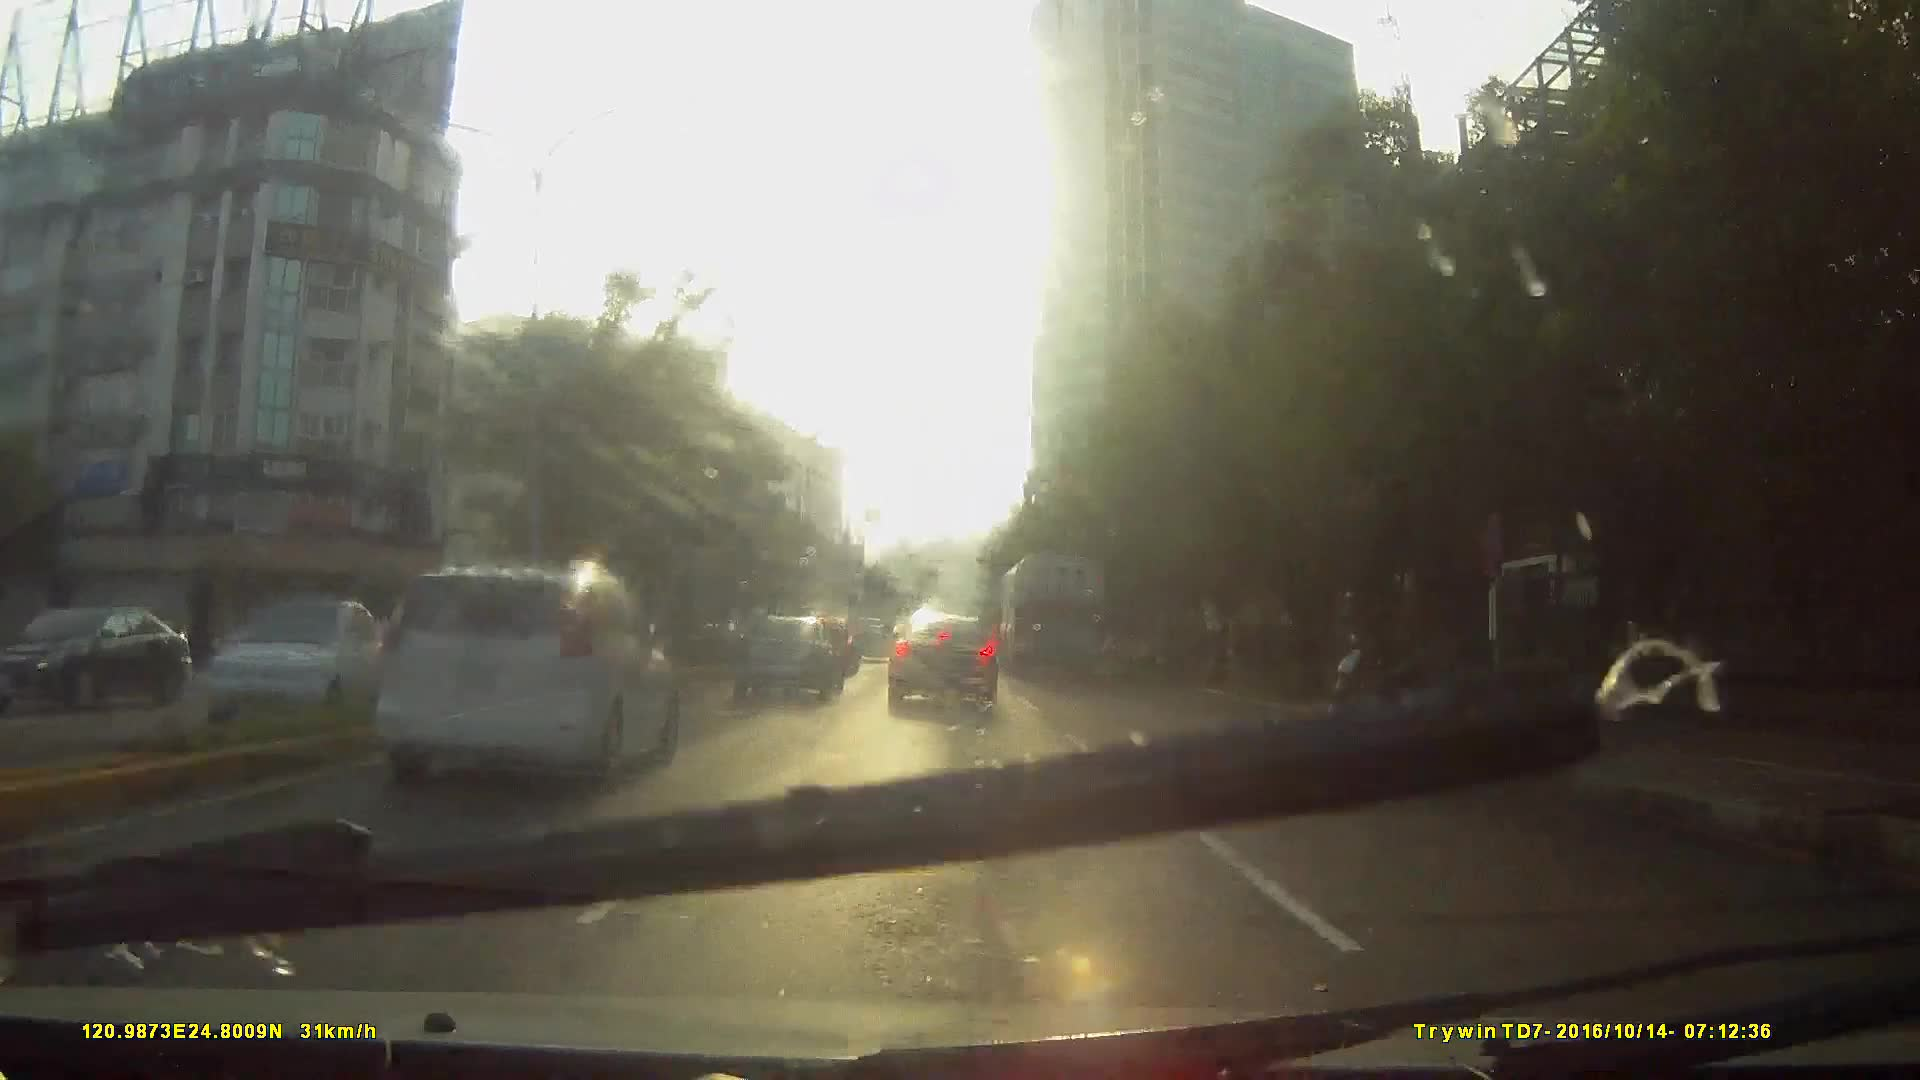vehicle: (251, 556, 684, 868), (367, 555, 675, 785), (189, 591, 410, 745), (1, 608, 202, 713), (1000, 551, 1108, 682), (884, 608, 998, 713), (725, 611, 839, 699), (851, 613, 895, 662)
